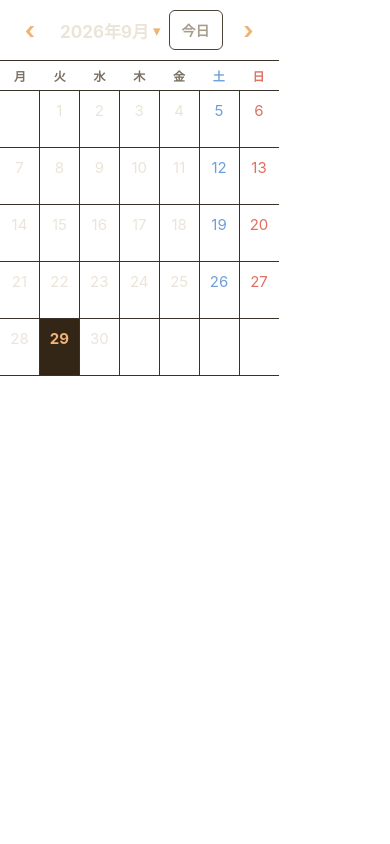
Scenario: MonthCalendar › 日付を選ぶダイアログを開ける
The image size is (390, 844).
Click the button named "日付を選んで移動する" at (110, 30), box 52,8 -> 168,52
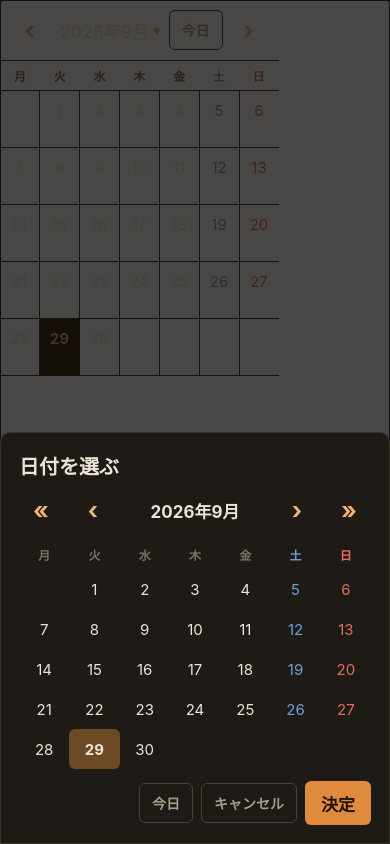
Check: the text "日付を選ぶ" is shown, box 19,455 -> 119,479
